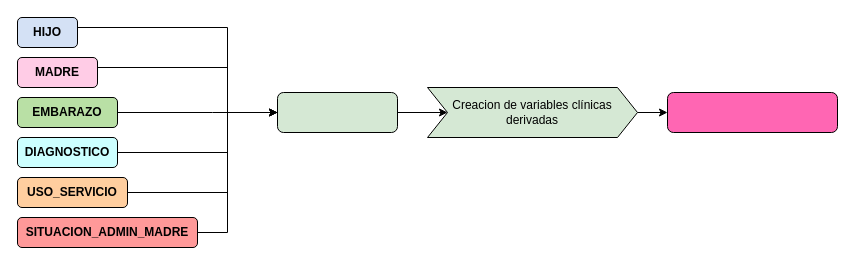
Image size: 855x265. Some labels were removed from this diagram. Each missing label, with the centre of its shape:
DATASET BASE: the point at 337,112
DATASET_ANALITICO.CSV: the point at 752,112
